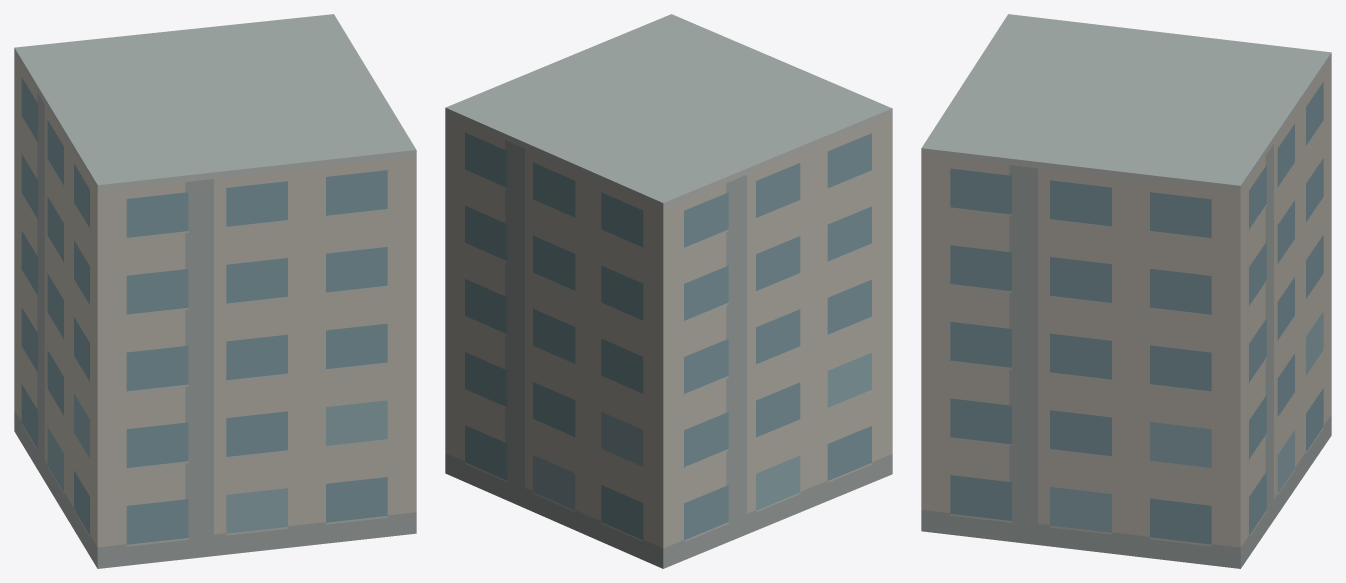
The model's file is survey-upis-32633895.glb.
The picture shows the model from 3 angles, left to right: view 1: azimuth 30°, elevation 25°; view 2: azimuth 150°, elevation 25°; view 3: azimuth 270°, elevation 25°; orthographic projection. The views are drawn at different scales.
Parts seen in each view (by area): view 1: survey-upis-32633895.tmp; view 2: survey-upis-32633895.tmp; view 3: survey-upis-32633895.tmp.
Part boxes in pixels (bbox=[...]): survey-upis-32633895.tmp: bbox=[14, 14, 416, 568]; survey-upis-32633895.tmp: bbox=[445, 14, 892, 568]; survey-upis-32633895.tmp: bbox=[921, 14, 1331, 568].
Bounding box in the file's own units: 13.86 × 14.4 × 13.98.
